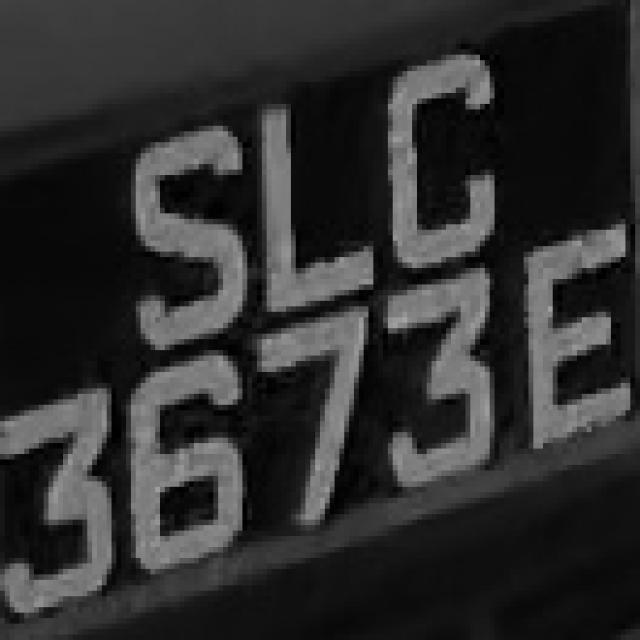3: (5, 372, 131, 634), (368, 268, 494, 498)
6: (116, 334, 257, 580)
7: (233, 312, 378, 541)
C: (368, 38, 514, 274)
E: (514, 219, 640, 470)
L: (238, 88, 383, 322)
S: (116, 93, 252, 334)
